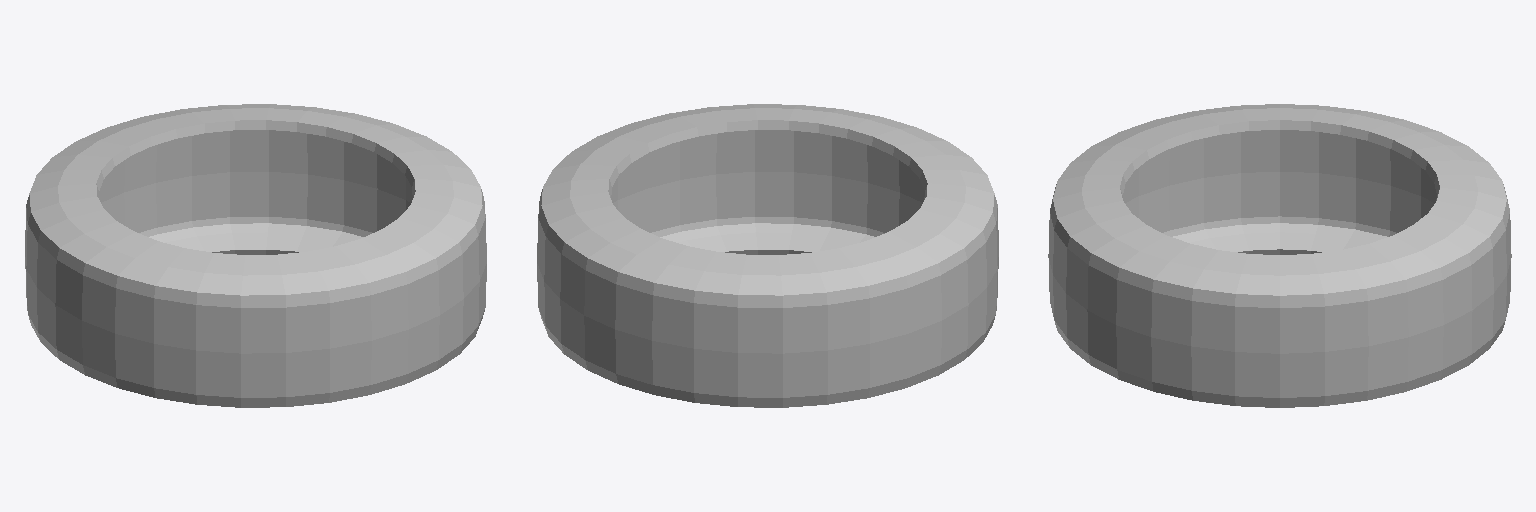
The model's file is Tire.obj.
The picture shows the model from 3 angles: view 1: azimuth 30°, elevation 25°; view 2: azimuth 150°, elevation 25°; view 3: azimuth 270°, elevation 25°; orthographic projection.
Parts seen in each view (by area): view 1: Cylinder; view 2: Cylinder; view 3: Cylinder.
Part boxes in pixels (x1,y1,x2,y2): Cylinder: (25,104,486,407); Cylinder: (537,104,998,407); Cylinder: (1048,104,1511,407).
Size of the model in its own units: 2.04 by 0.6648 by 2.04.